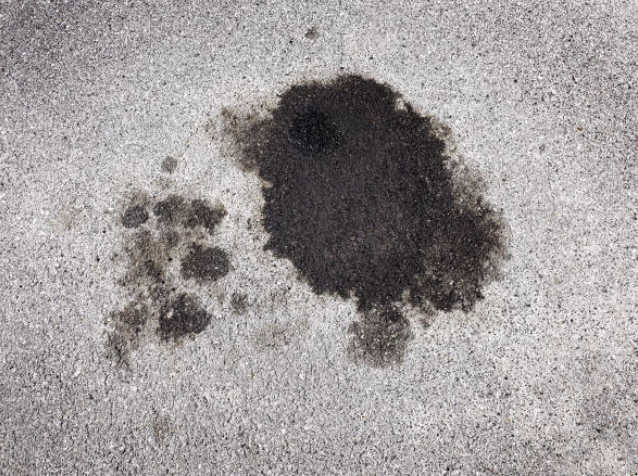oil: (105, 37, 253, 185), (53, 78, 111, 184)
